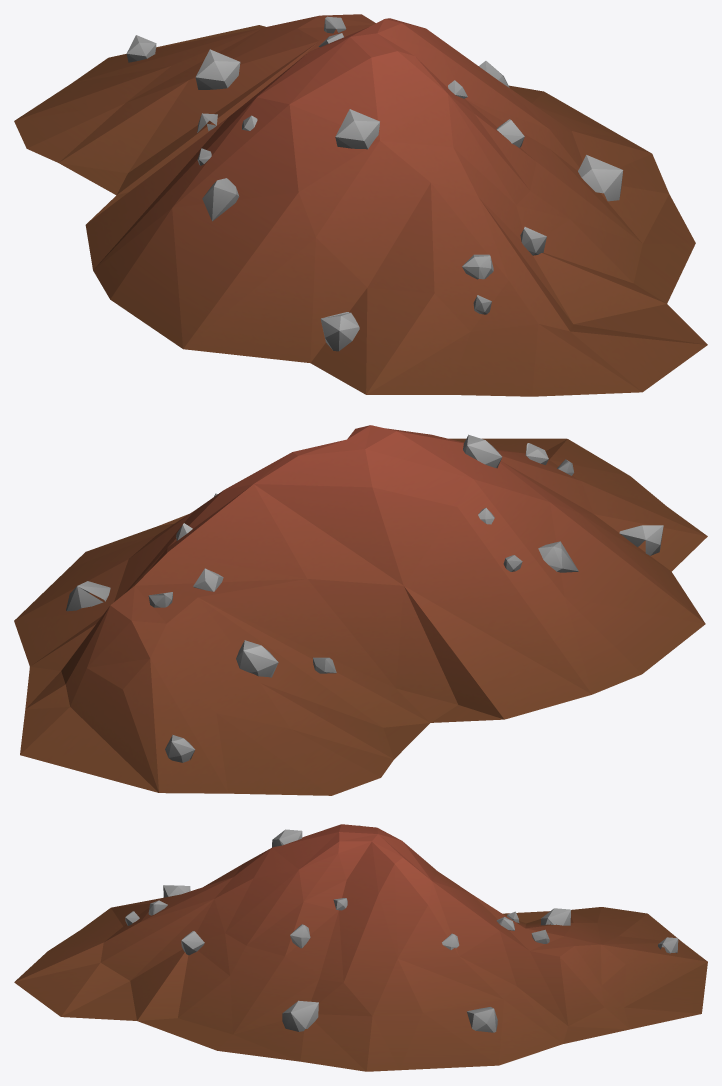
The model's file is EarthPile.fbx.
3 views of the same model, one above another, from view 1: azimuth 30°, elevation 25°; view 2: azimuth 150°, elevation 25°; view 3: azimuth 270°, elevation 25° (orthographic). The views are drawn at different scales.
Parts seen in each view (by area): view 1: EarthPile; view 2: EarthPile; view 3: EarthPile.
Part boxes in pixels (box(x1,y1,x2,y2)): EarthPile: box(14, 14, 707, 396); EarthPile: box(14, 425, 707, 795); EarthPile: box(14, 824, 707, 1071).
Bounding box in the file's own units: 2.73 × 0.8711 × 4.05.
